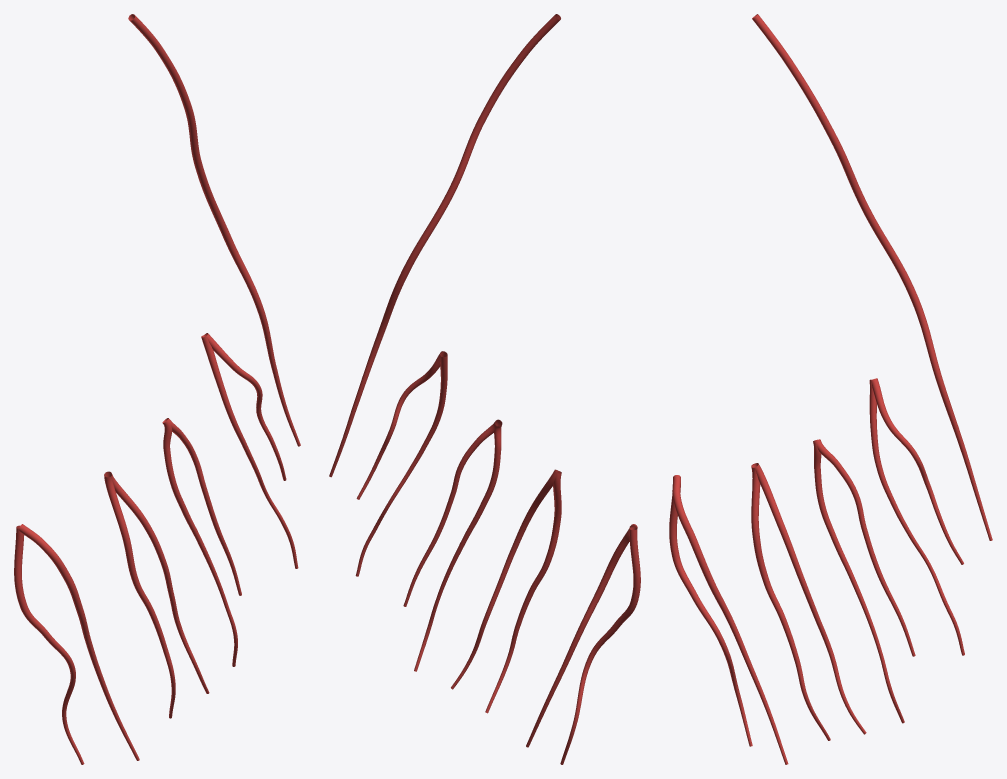
3 views of the same model, side by side, from view 1: azimuth 30°, elevation 25°; view 2: azimuth 150°, elevation 25°; view 3: azimuth 330°, elevation 25° (orthographic). The views are drawn at different scales.
Parts seen in each view (by area): view 1: 左侧趾足底固有动脉; view 2: 左侧趾足底固有动脉; view 3: 左侧趾足底固有动脉.
Part boxes in pixels (x1=…): 左侧趾足底固有动脉: x1=14, y1=14, x2=300, y2=764; 左侧趾足底固有动脉: x1=329, y1=14, x2=640, y2=764; 左侧趾足底固有动脉: x1=669, y1=14, x2=992, y2=764.
Size of the model in its own units: 0.0889 by 0.2115 by 0.0193.
